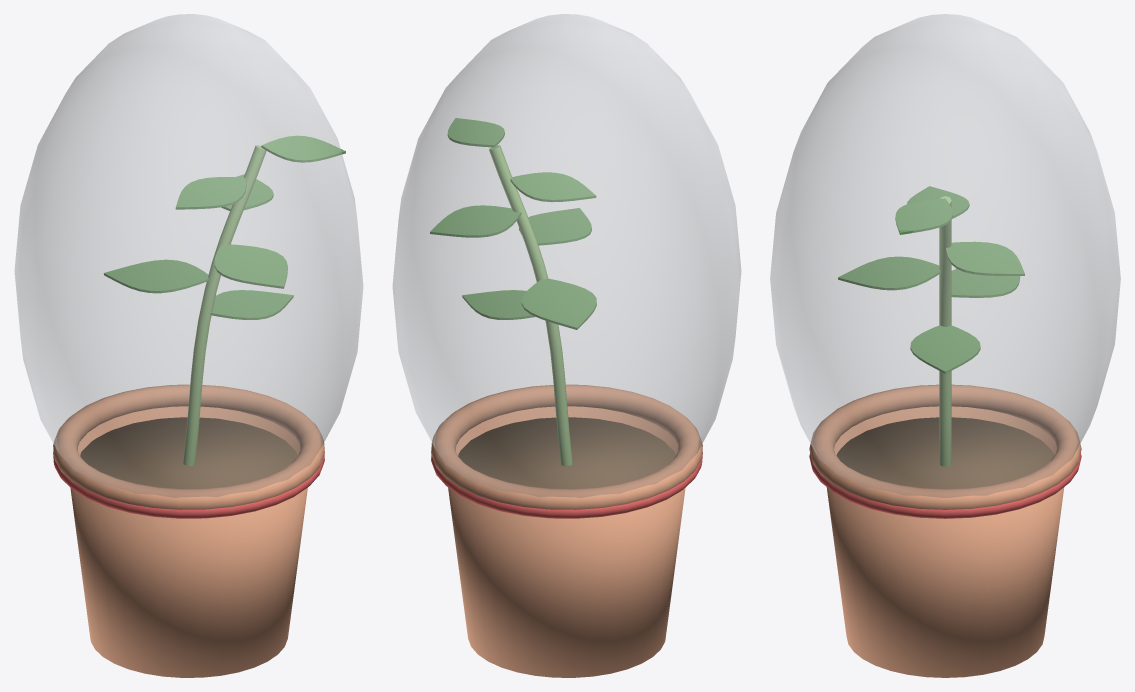
Rendered from plant_no_air.glb.
The picture shows the model from 3 angles, left to right: view 1: azimuth 30°, elevation 25°; view 2: azimuth 150°, elevation 25°; view 3: azimuth 270°, elevation 25°; orthographic projection.
Parts seen in each view (by area): view 1: plastic_bag, pot_body, pot_rim, soil, plant_stem, plant_leaf2, bag_tie, plant_leaf1, plant_leaf0, plant_leaf4, plant_leaf5, plant_leaf3; view 2: plastic_bag, pot_body, pot_rim, soil, plant_stem, plant_leaf1, bag_tie, plant_leaf3, plant_leaf4, plant_leaf2, plant_leaf0, plant_leaf5; view 3: plastic_bag, pot_body, pot_rim, soil, plant_stem, bag_tie, plant_leaf2, plant_leaf0, plant_leaf3, plant_leaf5, plant_leaf1, plant_leaf4.
Part boxes in pixels (x1,y1,x2,y2): plastic_bag: [14, 14, 363, 497]; pot_body: [70, 406, 307, 677]; pot_rim: [53, 384, 324, 509]; soil: [80, 417, 297, 488]; plant_stem: [183, 145, 266, 466]; plant_leaf2: [214, 244, 287, 288]; bag_tie: [53, 451, 324, 518]; plant_leaf1: [103, 259, 208, 293]; plant_leaf0: [210, 290, 293, 319]; plant_leaf4: [175, 177, 246, 209]; plant_leaf5: [261, 135, 345, 162]; plant_leaf3: [221, 174, 273, 210]; plastic_bag: [392, 14, 741, 497]; pot_body: [448, 406, 685, 677]; pot_rim: [431, 384, 702, 509]; soil: [458, 417, 675, 488]; plant_stem: [489, 145, 572, 466]; plant_leaf1: [521, 278, 596, 329]; bag_tie: [431, 451, 702, 518]; plant_leaf3: [430, 205, 521, 237]; plant_leaf4: [510, 172, 596, 202]; plant_leaf2: [519, 208, 591, 245]; plant_leaf0: [462, 290, 535, 319]; plant_leaf5: [447, 118, 504, 147]; plastic_bag: [770, 14, 1120, 497]; pot_body: [826, 406, 1064, 677]; pot_rim: [809, 384, 1081, 509]; soil: [836, 417, 1054, 488]; plant_stem: [939, 196, 951, 466]; bag_tie: [809, 453, 1081, 518]; plant_leaf2: [838, 256, 940, 290]; plant_leaf0: [910, 325, 980, 373]; plant_leaf3: [946, 241, 1024, 275]; plant_leaf5: [895, 198, 952, 234]; plant_leaf1: [951, 269, 1020, 297]; plant_leaf4: [906, 186, 969, 218].
Bounding box in the file's own units: 0.17 × 0.327 × 0.17.
